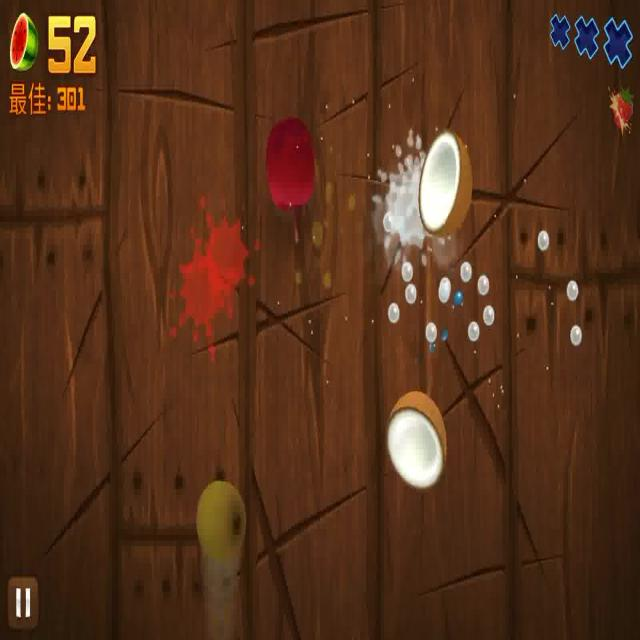fruit: (422, 124, 472, 234), (388, 391, 447, 482), (264, 114, 319, 202), (196, 480, 247, 561)
